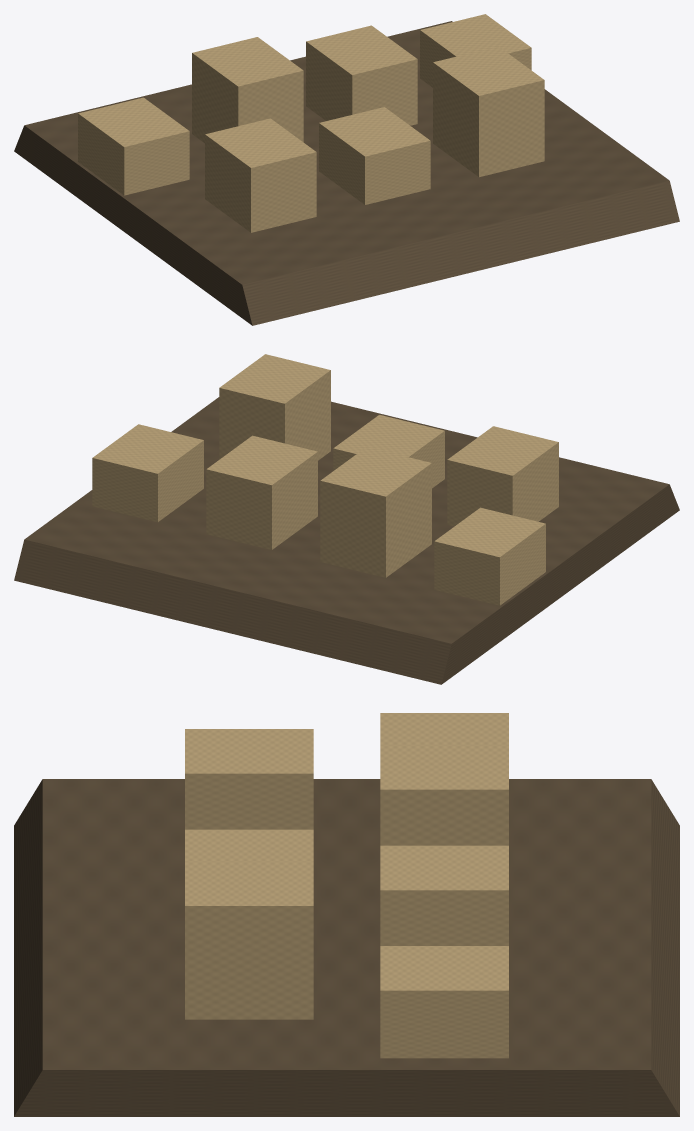
The model's file is Berber_Wall_Age4_destroyed_6m.fbx.
3 views of the same model, one above another, from view 1: azimuth 30°, elevation 25°; view 2: azimuth 150°, elevation 25°; view 3: azimuth 270°, elevation 25° (orthographic). The views are drawn at different scales.
Visible parts, largest first — view 1: destroyed_foot, fallen_earth_blocks.005, fallen_earth_blocks.001, fallen_earth_blocks.002, fallen_earth_blocks.004, fallen_earth_blocks, fallen_earth_blocks.003, fallen_earth_blocks.006; view 2: destroyed_foot, fallen_earth_blocks.002, fallen_earth_blocks.004, fallen_earth_blocks.005, fallen_earth_blocks.001, fallen_earth_blocks, fallen_earth_blocks.006, fallen_earth_blocks.003; view 3: destroyed_foot, fallen_earth_blocks.005, fallen_earth_blocks.006, fallen_earth_blocks.001, fallen_earth_blocks.002, fallen_earth_blocks.004, fallen_earth_blocks.003, fallen_earth_blocks.
Part boxes in pixels (x1,y1,x2,y2): destroyed_foot: [14, 21, 679, 325]; fallen_earth_blocks.005: [433, 46, 544, 177]; fallen_earth_blocks.001: [205, 118, 316, 232]; fallen_earth_blocks.002: [192, 37, 303, 143]; fallen_earth_blocks.004: [306, 25, 417, 125]; fallen_earth_blocks: [78, 97, 189, 195]; fallen_earth_blocks.003: [319, 107, 430, 204]; fallen_earth_blocks.006: [420, 14, 531, 87]; destroyed_foot: [14, 397, 679, 684]; fallen_earth_blocks.002: [320, 447, 431, 577]; fallen_earth_blocks.004: [206, 435, 317, 549]; fallen_earth_blocks.005: [219, 354, 330, 460]; fallen_earth_blocks.001: [447, 426, 558, 526]; fallen_earth_blocks: [434, 507, 545, 605]; fallen_earth_blocks.006: [92, 424, 203, 522]; fallen_earth_blocks.003: [333, 415, 444, 488]; destroyed_foot: [14, 779, 679, 1116]; fallen_earth_blocks.005: [185, 861, 313, 1019]; fallen_earth_blocks.006: [380, 946, 508, 1058]; fallen_earth_blocks.001: [185, 729, 313, 829]; fallen_earth_blocks.002: [380, 745, 508, 845]; fallen_earth_blocks.004: [380, 845, 508, 945]; fallen_earth_blocks.003: [185, 829, 313, 861]; fallen_earth_blocks: [380, 713, 508, 744].
Size of the model in its own units: 600 by 154 by 580.
Materials: 2 (2 with a texture image).
